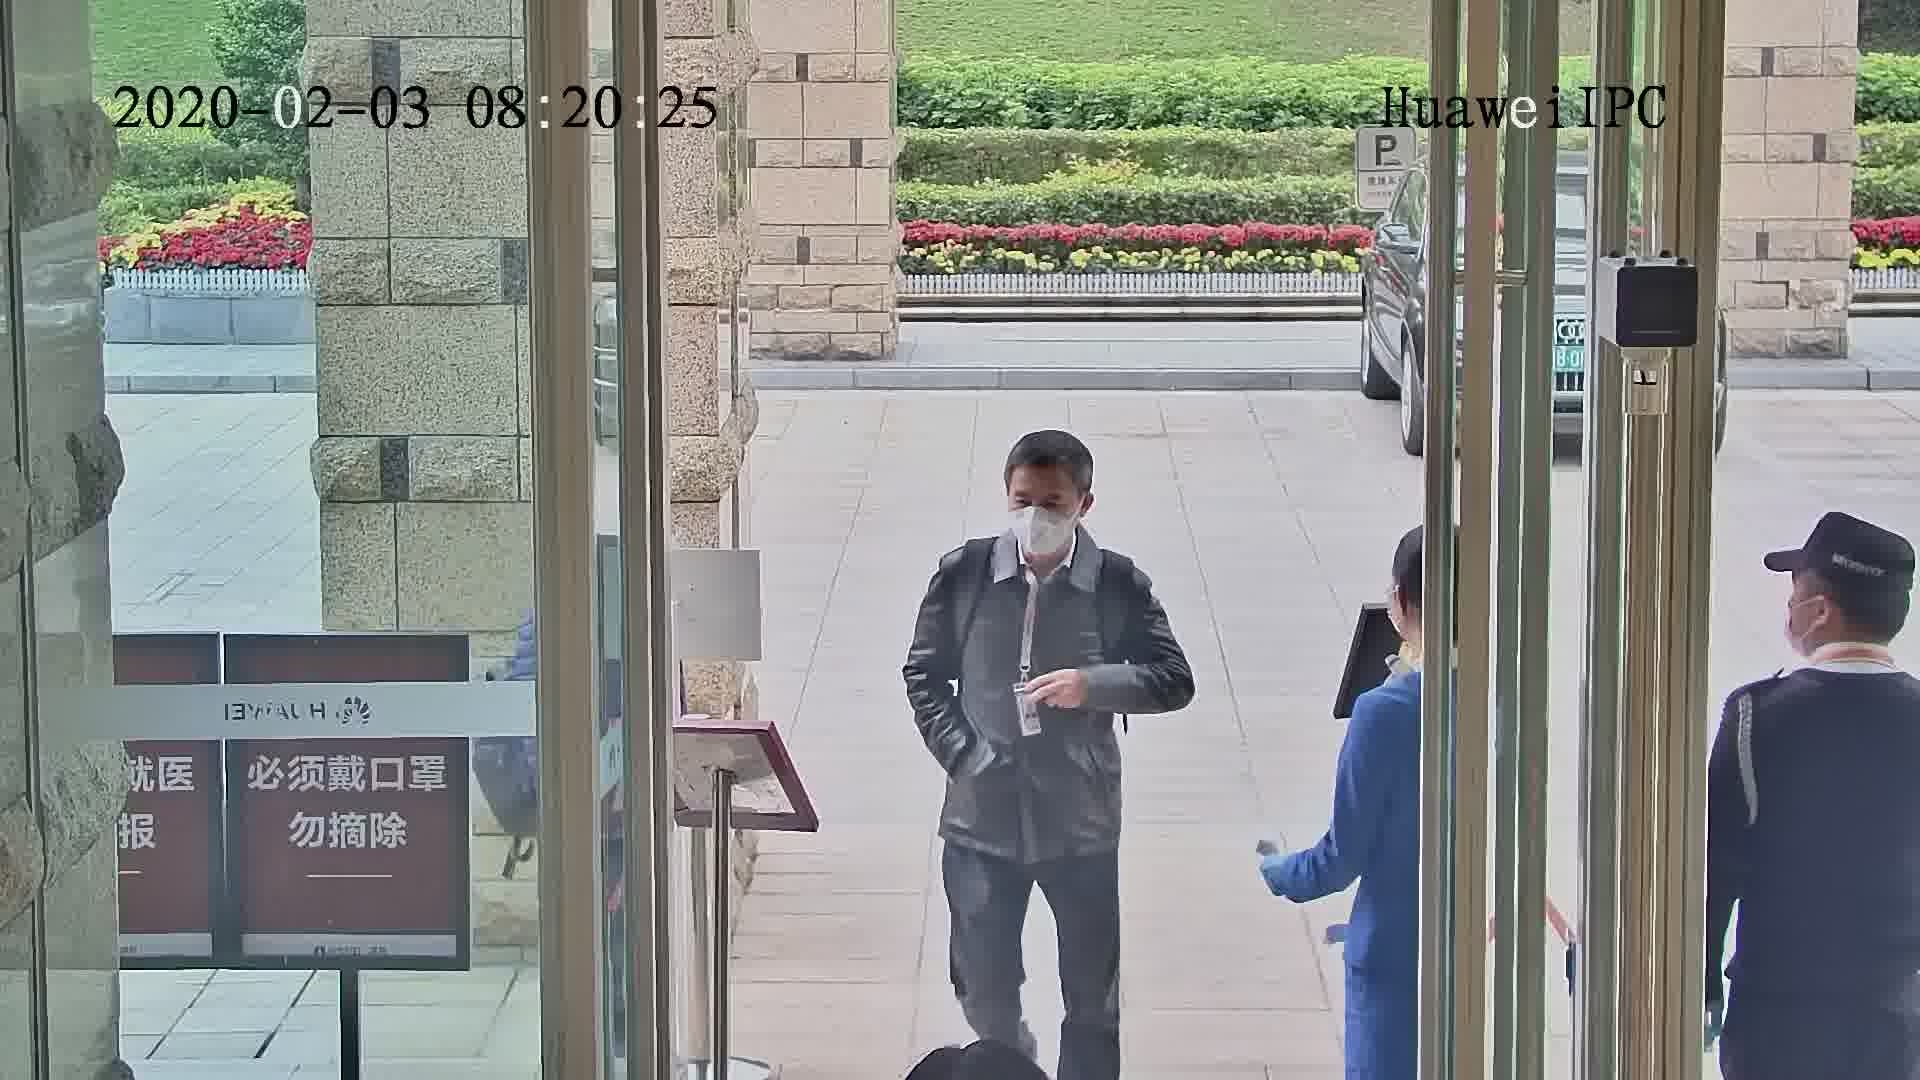face: (1007, 460, 1085, 560)
mask: (1011, 498, 1071, 562)
person: (1713, 508, 1920, 780), (934, 415, 1156, 608), (1345, 515, 1432, 770)
